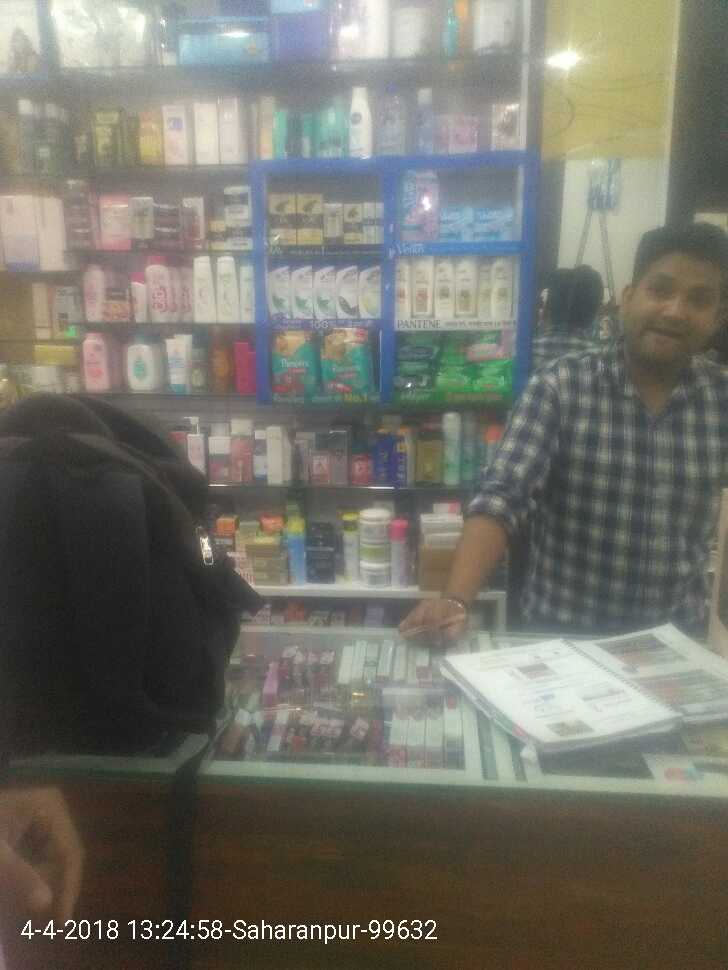venus: (399, 169, 439, 242), (473, 206, 512, 244), (441, 207, 472, 242)
